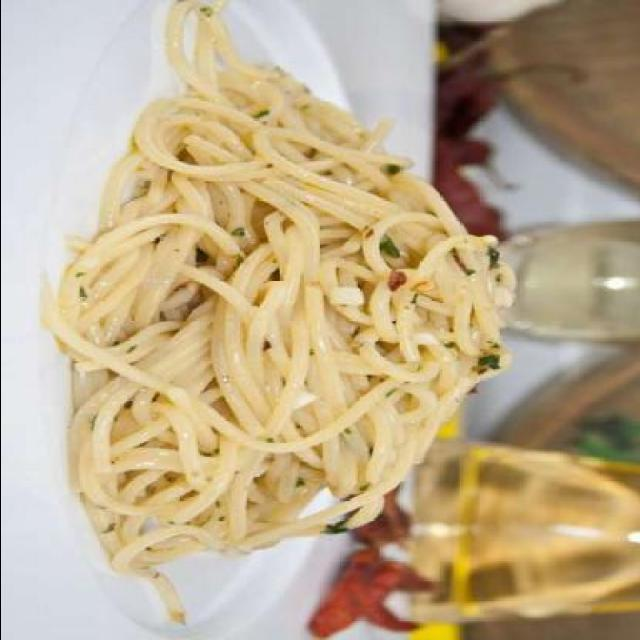Oil pasta: (42, 63, 560, 592)
